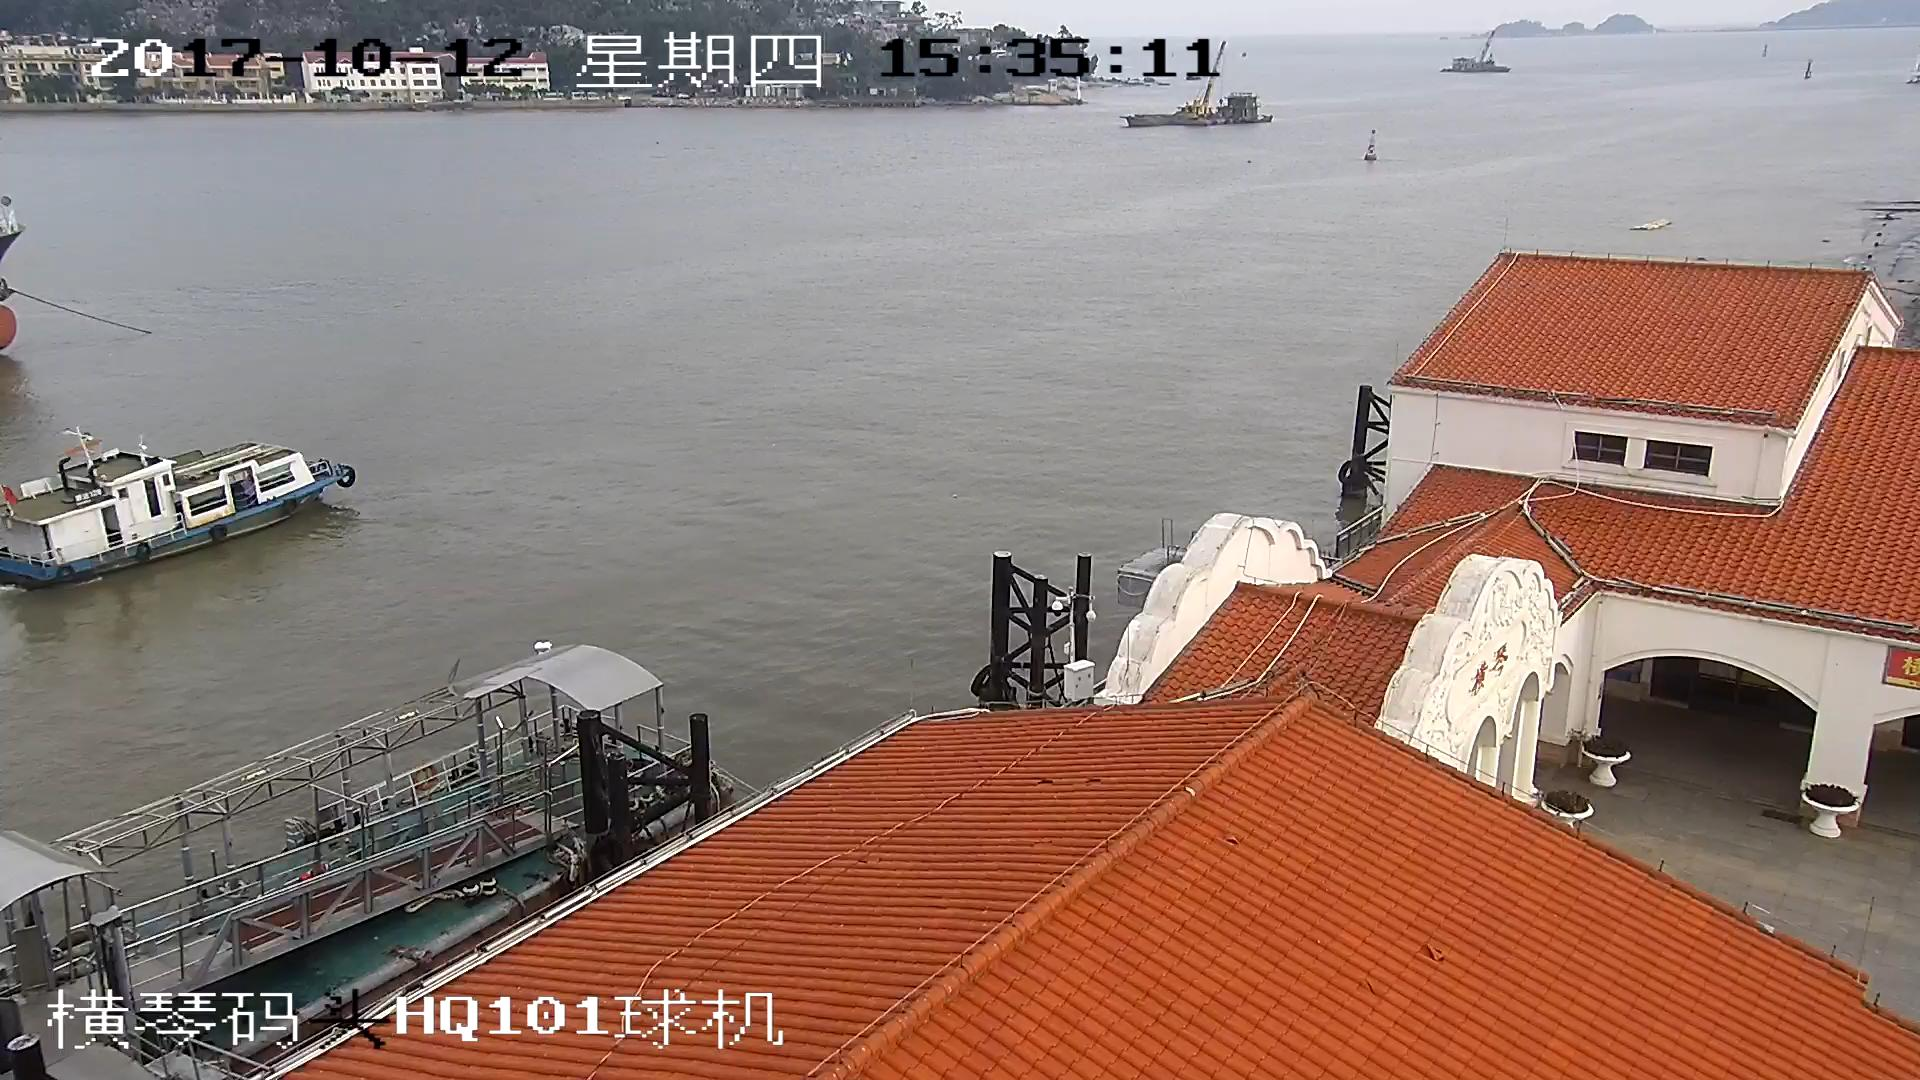fishing boat: (1, 426, 355, 585)
